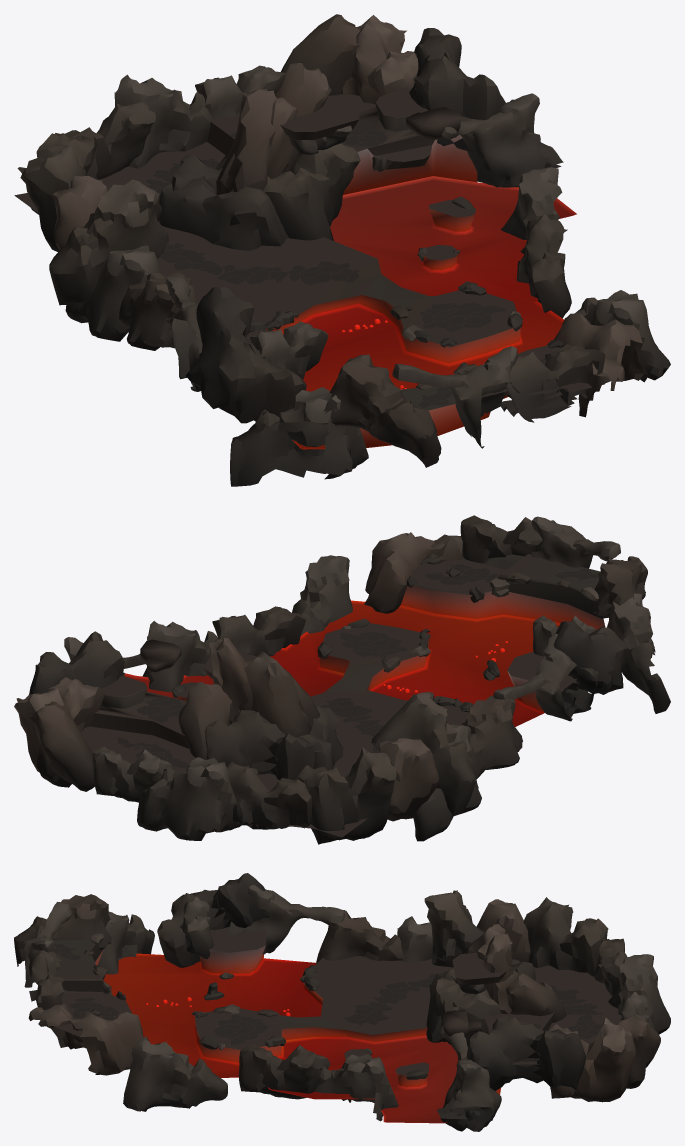
The model's file is LocationBlockout2.fbx.
3 views of the same model, one above another, from view 1: azimuth 30°, elevation 25°; view 2: azimuth 150°, elevation 25°; view 3: azimuth 270°, elevation 25° (orthographic). The views are drawn at different scales.
Parts seen in each view (by area): view 1: Terrain; view 2: Terrain; view 3: Terrain.
Boxes of the visible parts, x1,y1,x2,y2 form: Terrain: (14, 14, 670, 486); Terrain: (14, 515, 670, 844); Terrain: (14, 873, 670, 1131).
Bounding box in the file's own units: 9794 × 3460 × 13661.
